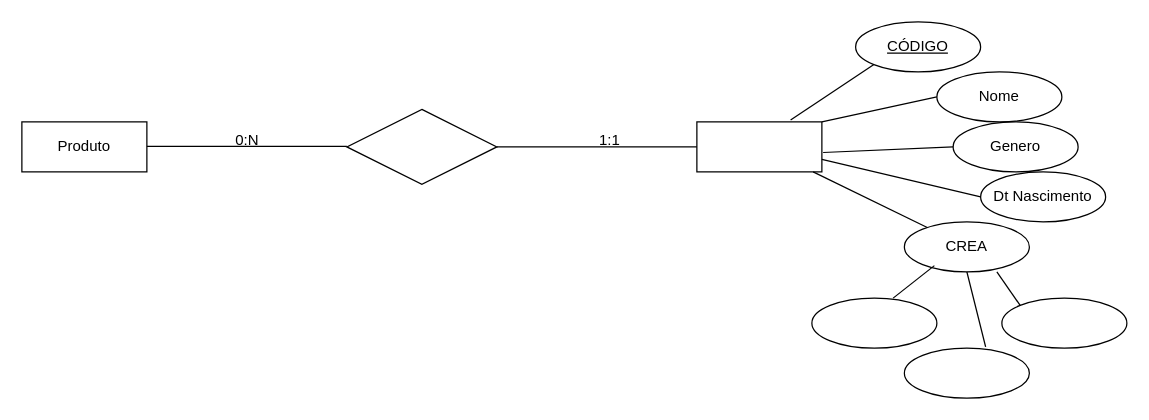
Some shapes in this 1149 by 420 pixel diagram are drawn without their labels. Each missing label, with the box of its shape:
Engenheiro: (696, 121, 822, 172)
É responsável: (346, 108, 497, 184)
